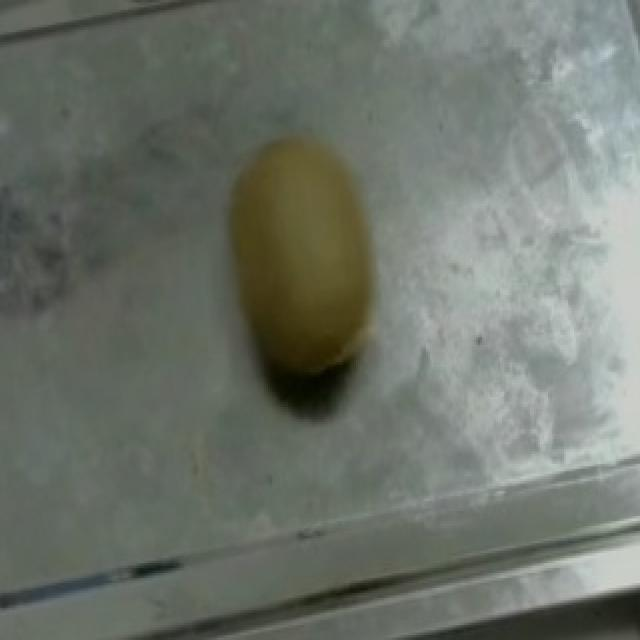Fruit: (186, 109, 416, 414)
